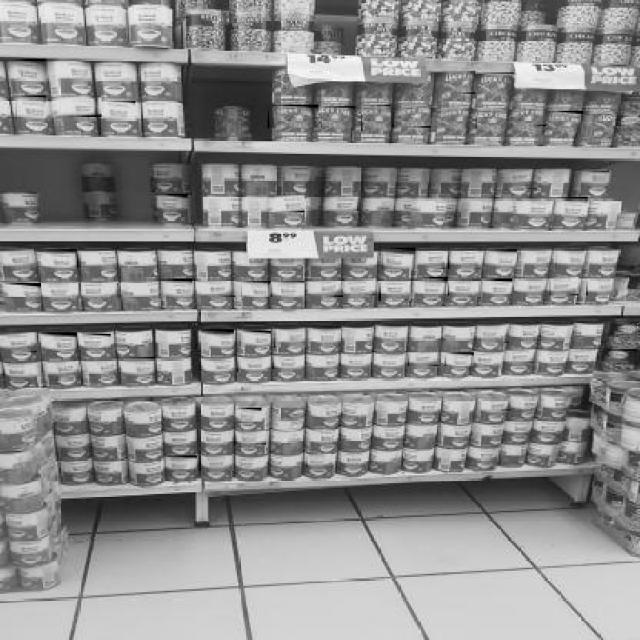Beans: (48, 95, 103, 118), (268, 105, 320, 129), (48, 63, 92, 86), (435, 71, 477, 95), (97, 60, 135, 86), (478, 72, 516, 97), (392, 105, 432, 128), (10, 59, 48, 83), (319, 106, 358, 129), (136, 62, 176, 84), (38, 249, 78, 271), (196, 329, 236, 351), (360, 105, 392, 132), (15, 95, 48, 120), (37, 332, 78, 352), (436, 108, 475, 129), (80, 283, 128, 300), (552, 197, 590, 218), (0, 333, 38, 354), (101, 100, 137, 122), (475, 108, 511, 130), (503, 169, 539, 191), (381, 248, 417, 270), (158, 278, 194, 300), (194, 280, 237, 298), (374, 325, 409, 347), (514, 198, 552, 218), (378, 280, 412, 302), (477, 323, 511, 345), (308, 326, 342, 348), (120, 357, 157, 377), (2, 282, 43, 300), (341, 278, 379, 297), (549, 110, 585, 130), (77, 251, 117, 269), (274, 328, 308, 349), (2, 360, 41, 378), (321, 195, 362, 212), (510, 110, 548, 128), (484, 249, 518, 269), (40, 363, 80, 380), (40, 283, 82, 299), (556, 249, 586, 271), (272, 195, 306, 214), (2, 249, 36, 268), (448, 278, 482, 297), (586, 278, 620, 297), (602, 349, 640, 366), (448, 251, 480, 271), (415, 251, 447, 271), (522, 248, 552, 269), (271, 280, 306, 298), (589, 249, 622, 268), (549, 277, 580, 297), (310, 280, 344, 298), (240, 280, 274, 298), (238, 330, 272, 348), (198, 456, 236, 472), (481, 278, 514, 296), (272, 354, 306, 371), (417, 277, 449, 295), (162, 431, 200, 446), (234, 431, 268, 447), (164, 455, 198, 471), (374, 354, 406, 371), (237, 357, 269, 374), (578, 171, 611, 187), (154, 194, 189, 209), (505, 349, 537, 365), (444, 352, 476, 368), (408, 353, 440, 369), (79, 334, 113, 349), (340, 354, 374, 369), (615, 324, 639, 345), (81, 360, 117, 374), (517, 280, 548, 295), (234, 408, 263, 423), (307, 454, 335, 469), (478, 401, 512, 413), (200, 360, 234, 372), (312, 356, 340, 370), (620, 115, 640, 134), (284, 168, 311, 182)
